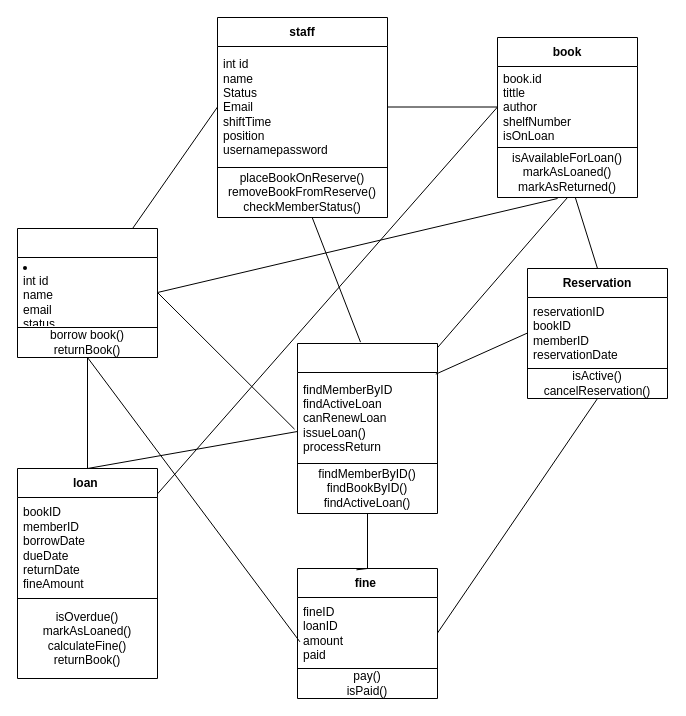
This 686x716 diagram has some shape labels left out. The box of each missing label's shape, as (x1, y1, x2, y2) in pixels:
library members: (16, 228, 158, 358)
LibrarySystem: (296, 342, 438, 514)
